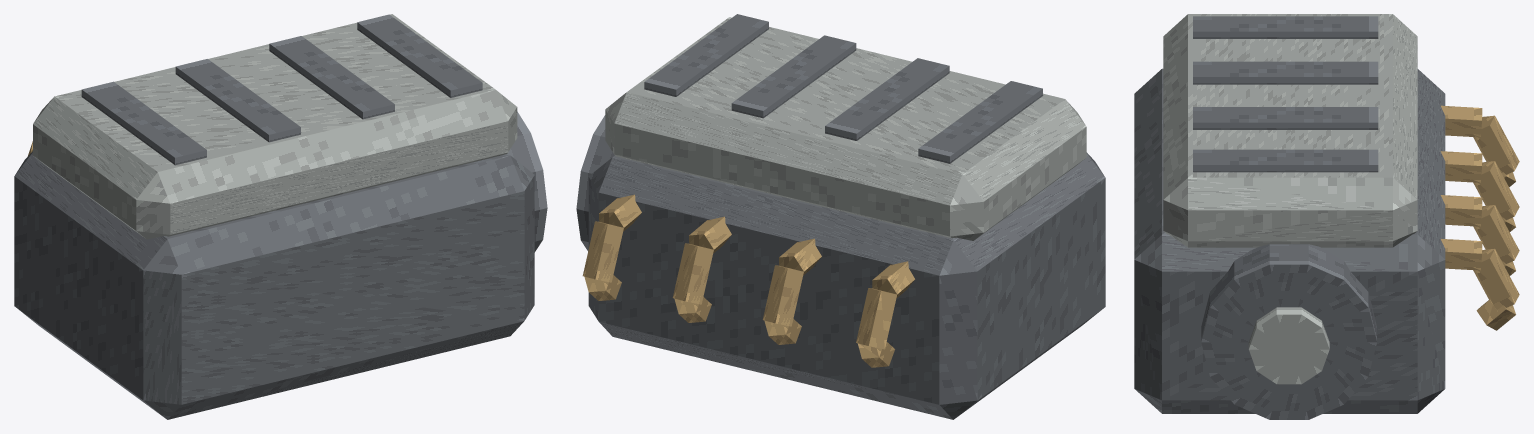
Rendered from i4_combustion.glb.
3 renders of one model, left to right at view 1: azimuth 30°, elevation 25°; view 2: azimuth 150°, elevation 25°; view 3: azimuth 270°, elevation 25°, orthographic.
Visible parts, largest first — view 1: block_cast engine block, block_head cover, block_cover ridge (×4), block_drive pulley; view 2: block_cast engine block, block_head cover, block_cover ridge (×4), block_manifold branch 1 (×4), block_manifold branch 0 (×4), block_manifold branch 2 (×4), block_drive pulley; view 3: block_head cover, block_cast engine block, block_drive pulley, block_cover ridge (×4), block_manifold branch 1 (×4), block_hub centre, block_manifold branch 0 (×4), block_manifold branch 2.
Part boxes in pixels (x1,y1,x2,y2): block_cast engine block: [14, 151, 534, 419]; block_head cover: [33, 14, 517, 239]; block_cover ridge (×4): [81, 14, 482, 165]; block_drive pulley: [508, 111, 547, 252]; block_cast engine block: [588, 152, 1105, 419]; block_head cover: [605, 17, 1086, 240]; block_cover ridge (×4): [644, 14, 1042, 163]; block_manifold branch 1 (×4): [582, 221, 896, 349]; block_manifold branch 0 (×4): [599, 194, 915, 298]; block_manifold branch 2 (×4): [584, 275, 894, 367]; block_drive pulley: [576, 115, 614, 251]; block_head cover: [1163, 14, 1417, 247]; block_cast engine block: [1134, 68, 1445, 413]; block_drive pulley: [1201, 244, 1376, 419]; block_cover ridge (×4): [1193, 16, 1378, 172]; block_manifold branch 1 (×4): [1473, 115, 1519, 309]; block_hub centre: [1248, 307, 1329, 384]; block_manifold branch 0 (×4): [1440, 105, 1482, 270]; block_manifold branch 2: [1476, 299, 1515, 330].
Size of the model in its own units: 1.04 by 0.5547 by 0.7972.
Materials: 1 (1 with a texture image).
